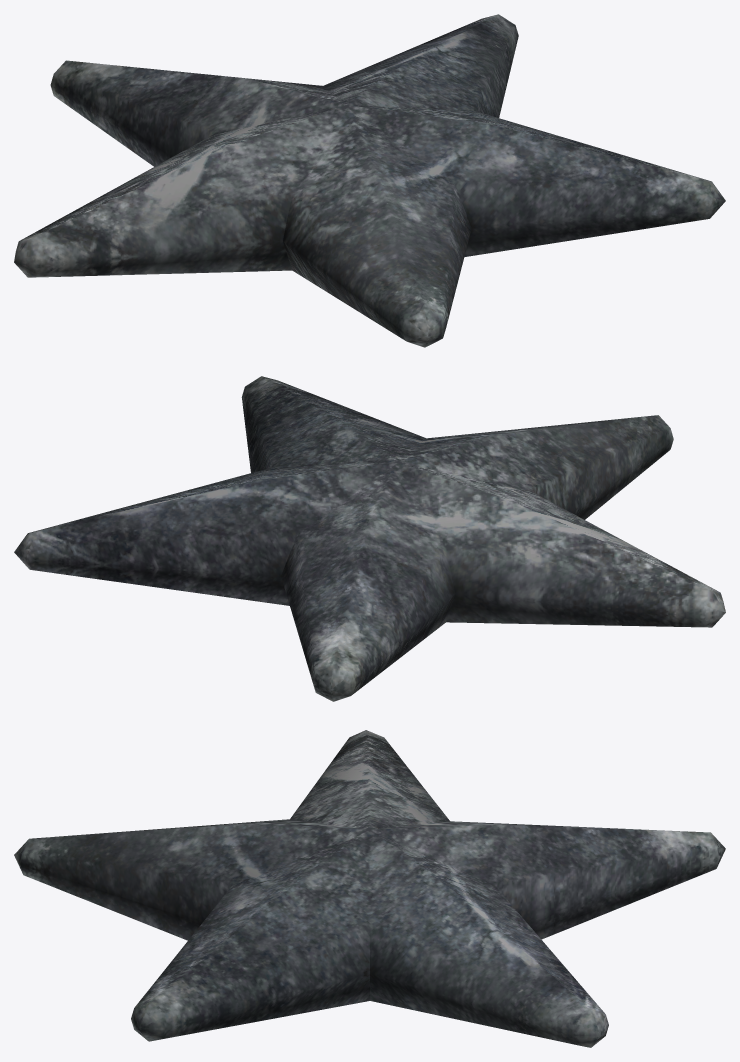
Rendered from soapstone_star.dae.
The picture shows the model from 3 angles, top to bottom: view 1: azimuth 30°, elevation 25°; view 2: azimuth 150°, elevation 25°; view 3: azimuth 270°, elevation 25°; orthographic projection. The views are drawn at different scales.
Visible parts, largest first — view 1: polySurface1; view 2: polySurface1; view 3: polySurface1.
Boxes of the visible parts, x1,y1,x2,y2 form: polySurface1: [14, 14, 725, 347]; polySurface1: [14, 376, 725, 701]; polySurface1: [14, 730, 725, 1047].
Size of the model in its own units: 0.1831 by 0.0423 by 0.1875.
